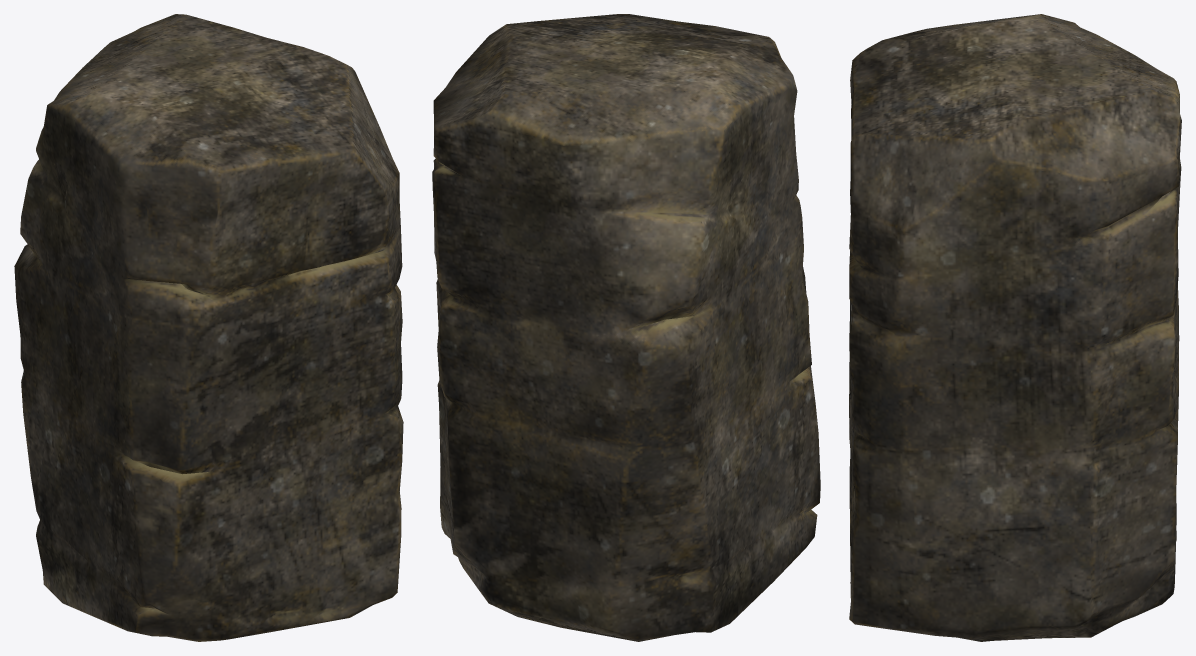
The model's file is Rock_6.fbx.
3 views of the same model, side by side, from view 1: azimuth 30°, elevation 25°; view 2: azimuth 150°, elevation 25°; view 3: azimuth 270°, elevation 25° (orthographic). The views are drawn at different scales.
Parts seen in each view (by area): view 1: Rock_6_Baked; view 2: Rock_6_Baked; view 3: Rock_6_Baked.
Part boxes in pixels (<box>): Rock_6_Baked: <box>14,14,403,641</box>; Rock_6_Baked: <box>432,14,820,641</box>; Rock_6_Baked: <box>849,14,1181,641</box>.
Size of the model in its own units: 3.13 by 3.22 by 5.64.
Materials: 1 (1 with a texture image).
